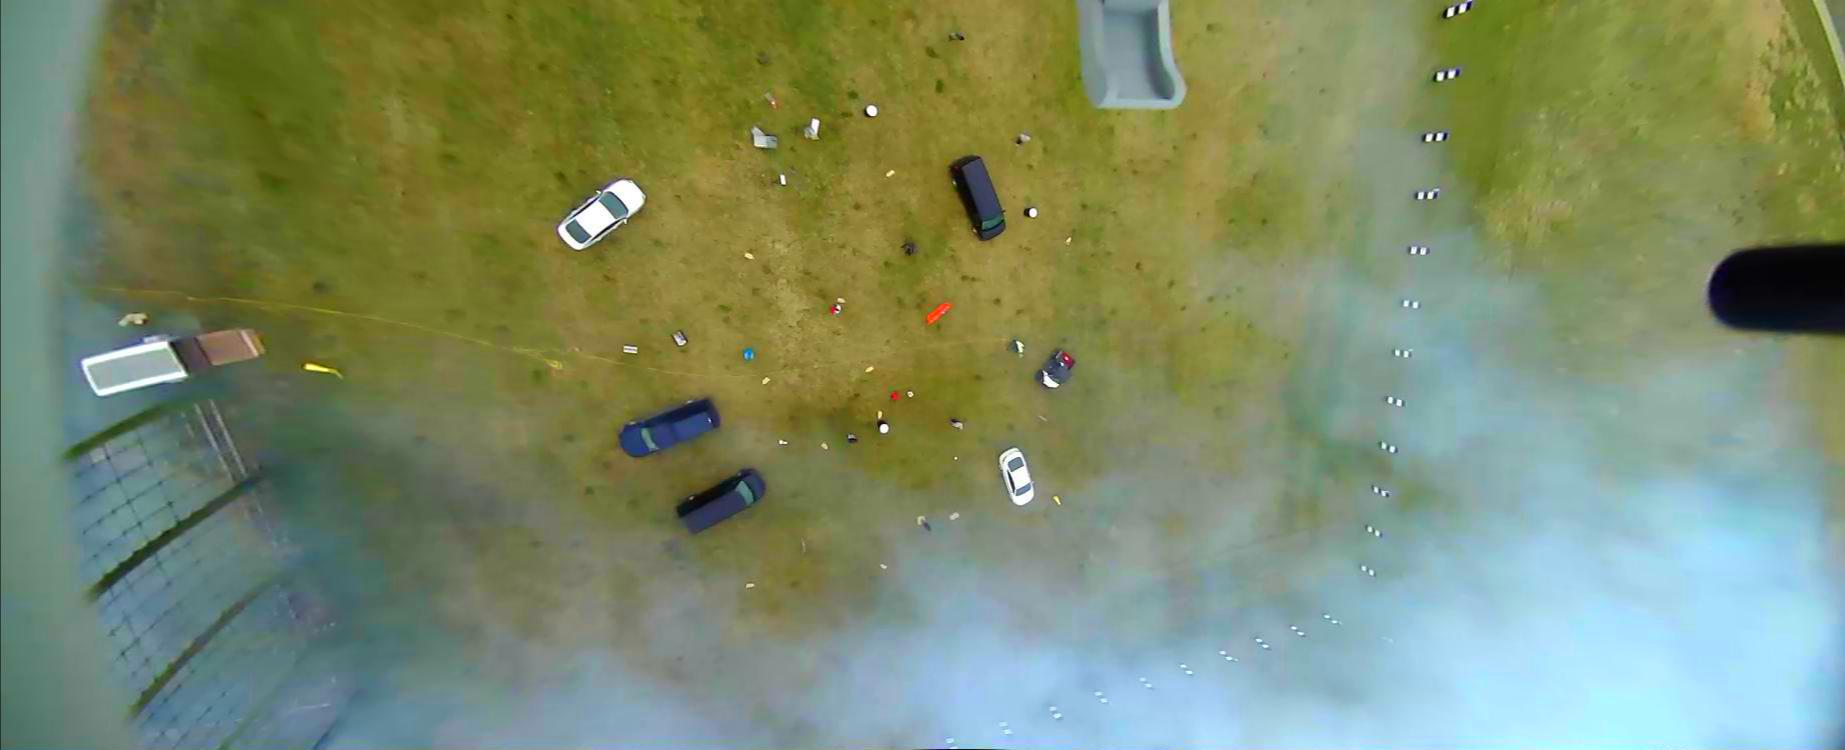vehicle: (557, 177, 645, 251), (618, 397, 719, 457), (675, 467, 765, 535), (947, 155, 1005, 241), (997, 446, 1034, 505), (1033, 349, 1075, 389)
